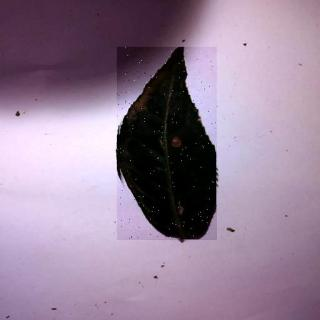Anthracnose: (119, 48, 219, 242)
